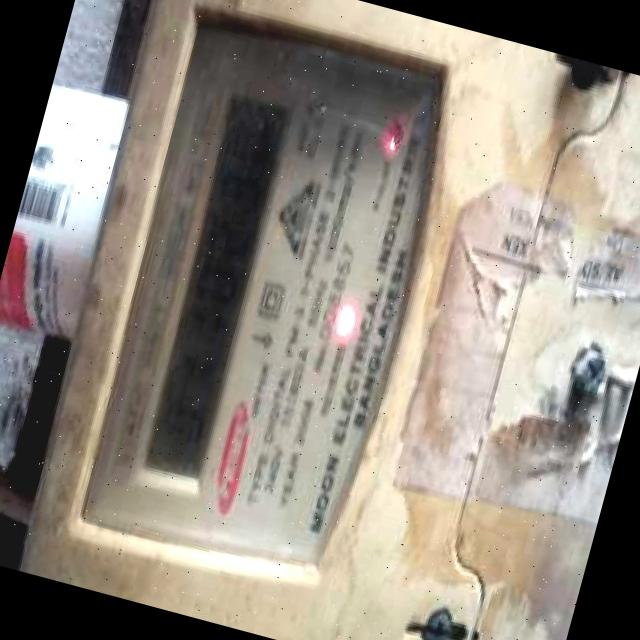LCD: (130, 82, 304, 490)
